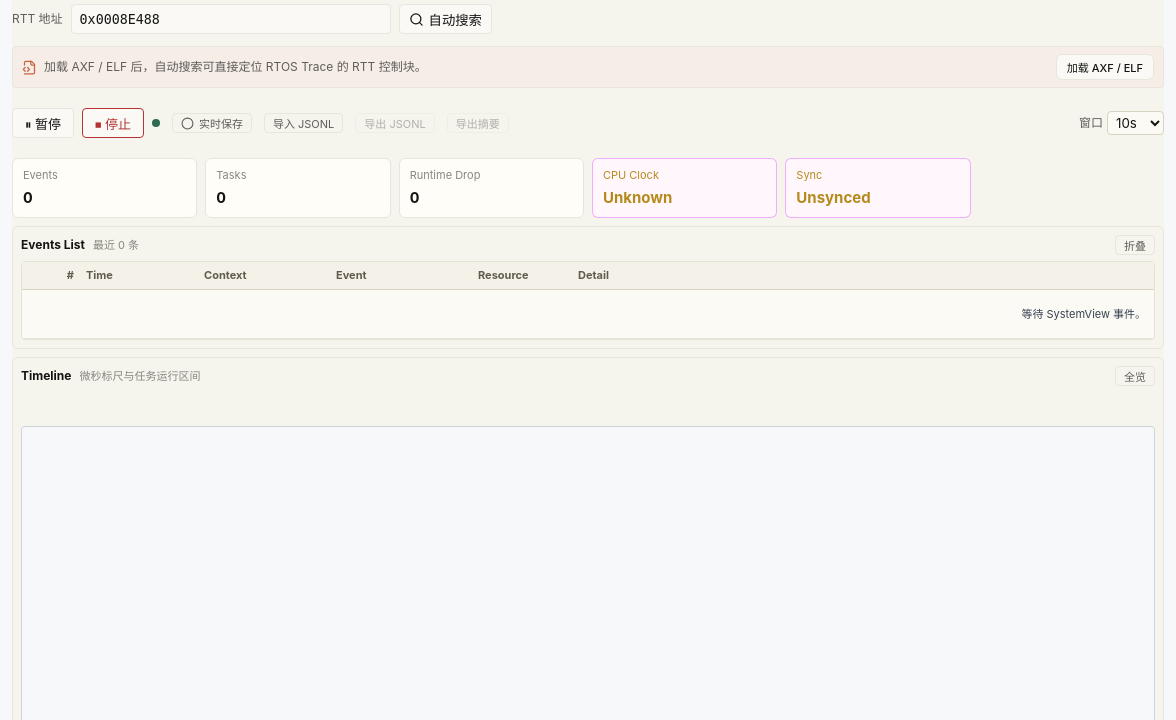
Test case: SystemViewTab asynchronous lifecycle › starts and stops durable recording without stopping RTOS Trace
The image size is (1176, 720).
Click the button with test id "systemview-recording" at (212, 123), box [172,113,252,133]
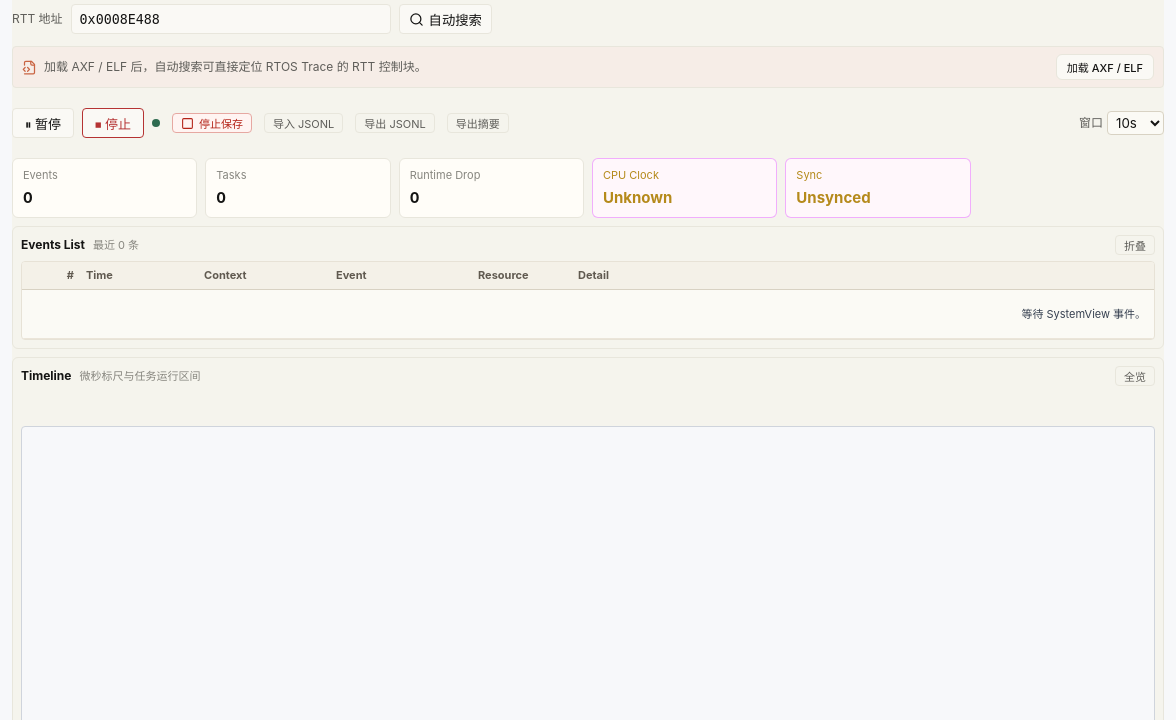
expect the button with test id "systemview-recording" reads "停止保存": met
Click the button with test id "systemview-recording" at (212, 123), box [172,113,252,133]
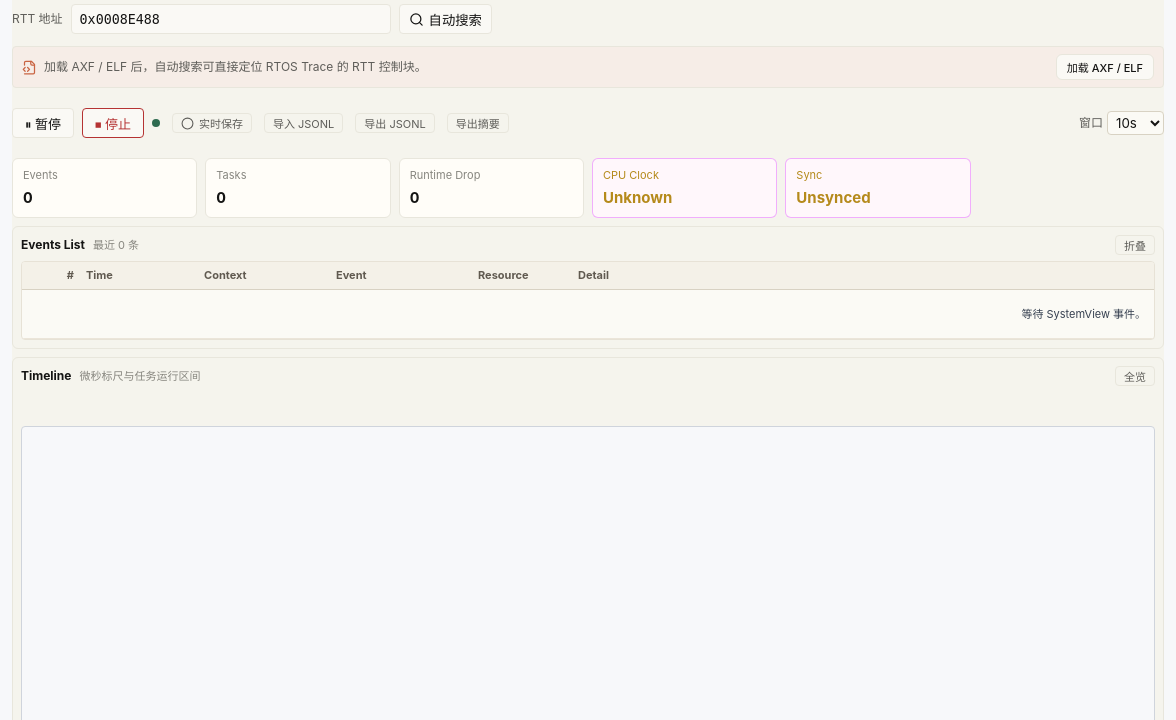
expect the button with test id "systemview-recording" reads "实时保存": met, box [172,113,252,133]
